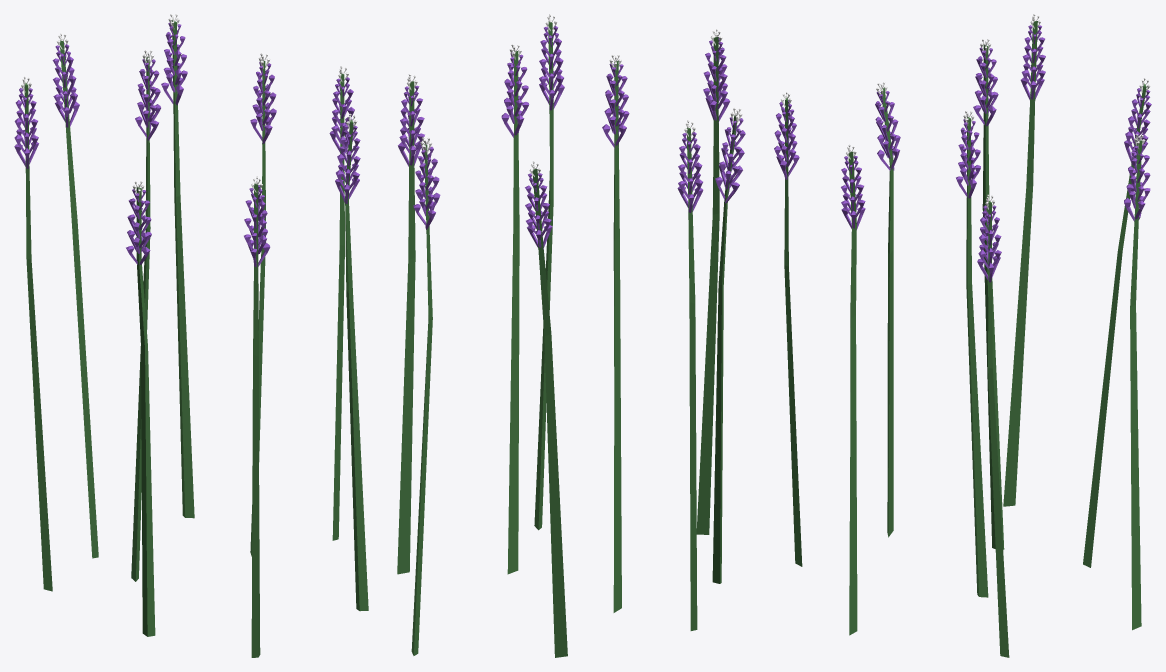
The model's file is flowers02.gltf.
The picture shows the model from 3 angles, left to right: view 1: azimuth 30°, elevation 25°; view 2: azimuth 150°, elevation 25°; view 3: azimuth 270°, elevation 25°; orthographic projection. The views are drawn at different scales.
Parts seen in each view (by area): view 1: Plane.001; view 2: Plane.001; view 3: Plane.001.
Part boxes in pixels (x1,y1,x2,y2): Plane.001: [14, 14, 368, 657]; Plane.001: [397, 14, 745, 657]; Plane.001: [774, 14, 1151, 657].
Bounding box in the file's own units: 0.7241 × 1.21 × 0.7767.
1 material, 1 textured.
